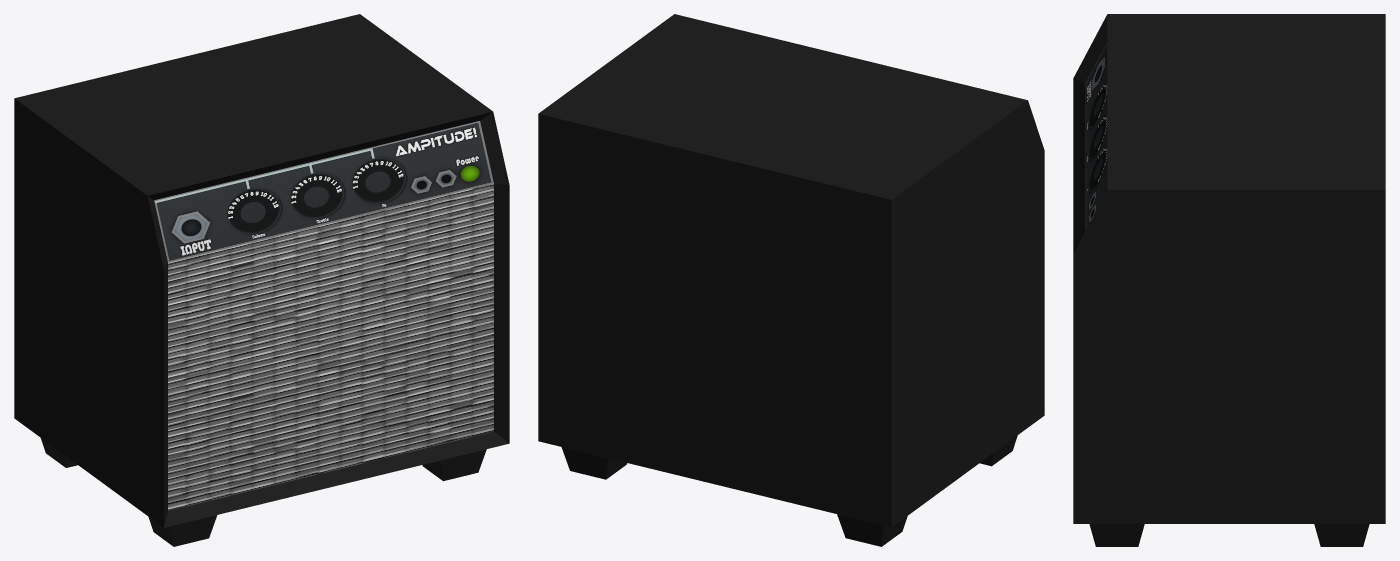
Rendered from Amp_A.FBX.
3 views of the same model, side by side, from view 1: azimuth 30°, elevation 25°; view 2: azimuth 150°, elevation 25°; view 3: azimuth 270°, elevation 25° (orthographic). The views are drawn at different scales.
Visible parts, largest first — view 1: Amp; view 2: Amp; view 3: Amp.
Boxes of the visible parts, bbox=[...] form: Amp: bbox=[14, 14, 509, 546]; Amp: bbox=[538, 14, 1044, 546]; Amp: bbox=[1073, 14, 1385, 546].
Bounding box in the file's own units: 55.04 × 53.57 × 41.28.
